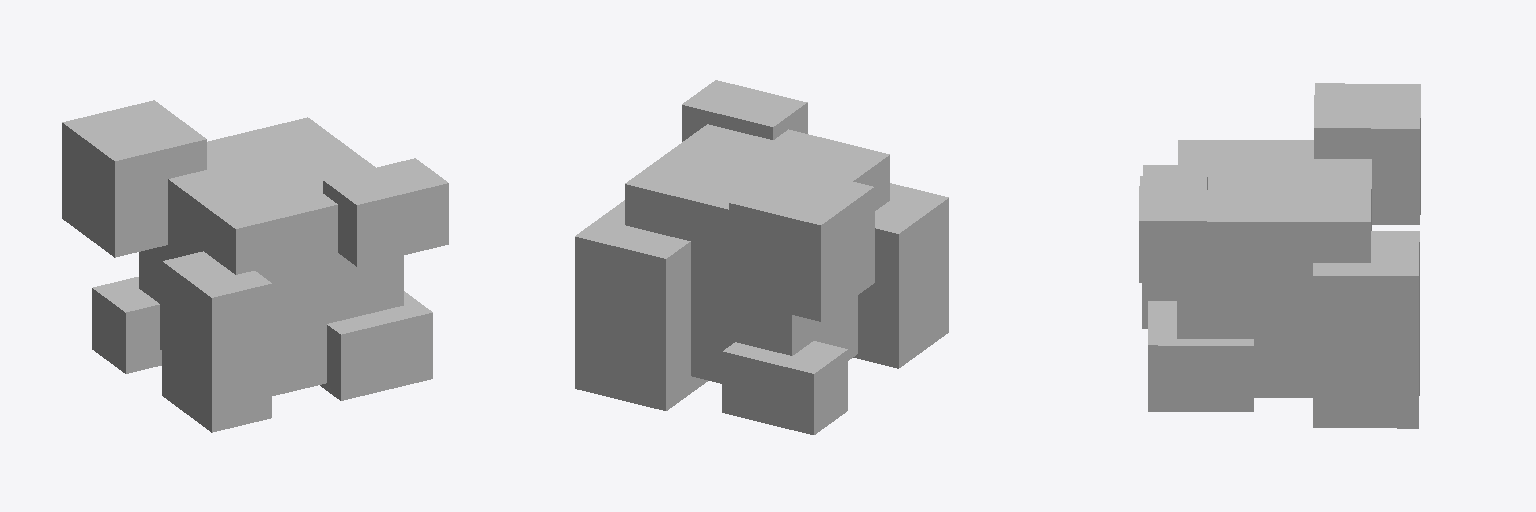
File: nuke.obj
3 views of the same model, side by side, from view 1: azimuth 30°, elevation 25°; view 2: azimuth 150°, elevation 25°; view 3: azimuth 270°, elevation 25° (orthographic).
Visible parts, largest first — view 1: Joya_25_Mesh.049; view 2: Joya_25_Mesh.049; view 3: Joya_25_Mesh.049.
Part boxes in pixels (left/top/right/bottom): Joya_25_Mesh.049: left=62, top=100, right=448, bottom=432; Joya_25_Mesh.049: left=575, top=80, right=948, bottom=434; Joya_25_Mesh.049: left=1139, top=83, right=1420, bottom=428.
Bounding box in the file's own units: 0.0147 × 0.0127 × 0.0145.